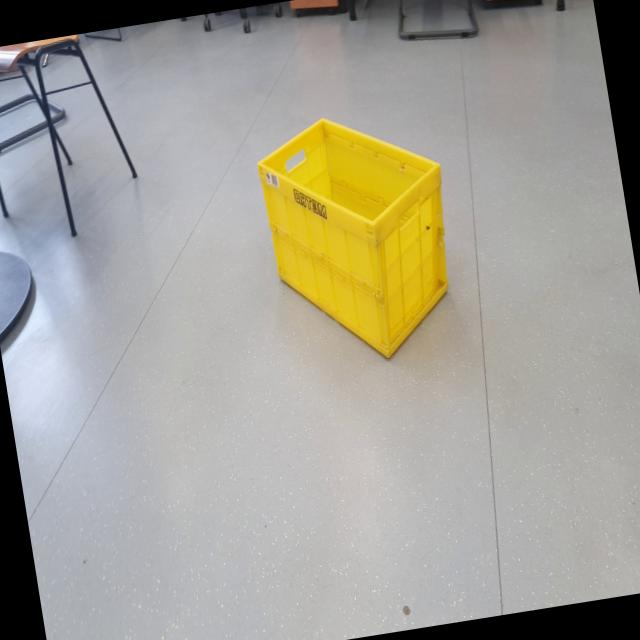box: (247, 89, 475, 376)
